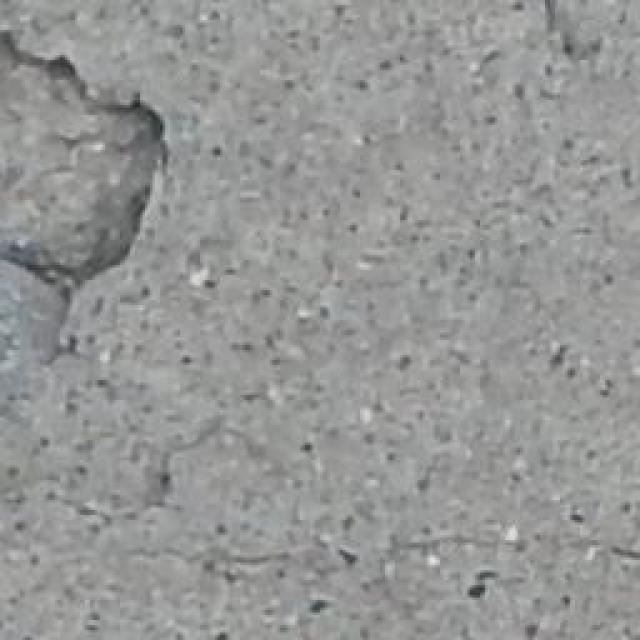concrete-crack: (0, 6, 186, 364)
